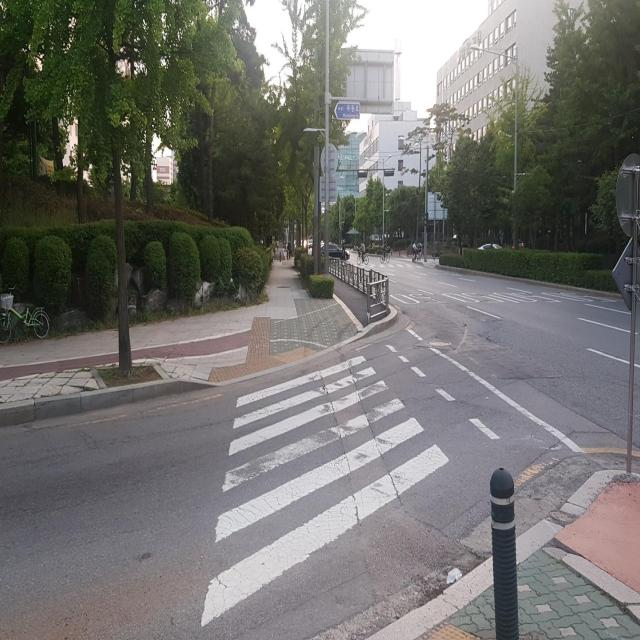횡단보도: (200, 354, 450, 631)
